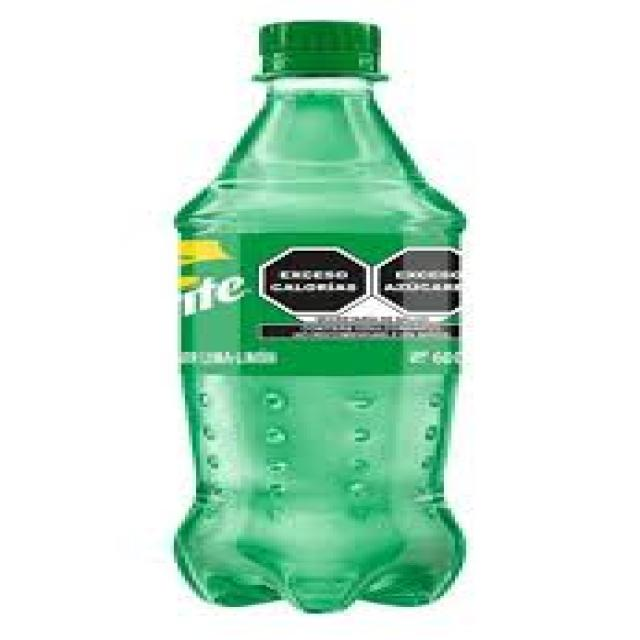Botella: (156, 6, 475, 613)
